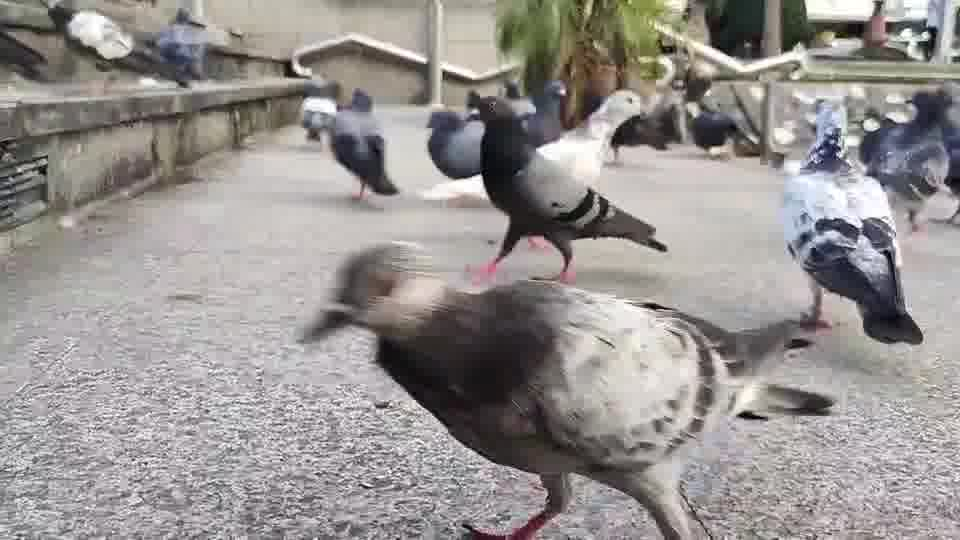Pigeon: (294, 239, 833, 538), (464, 85, 668, 284), (781, 122, 924, 346), (858, 88, 958, 230), (328, 87, 400, 201)
